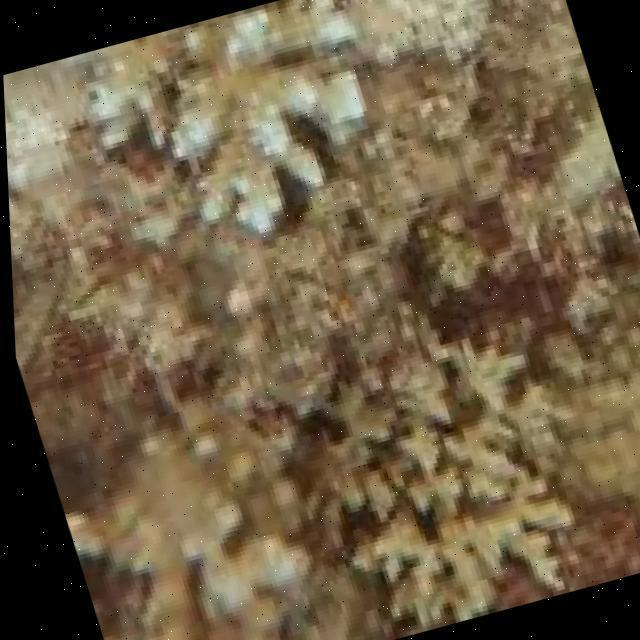Bleached Coral: (95, 0, 394, 245)
